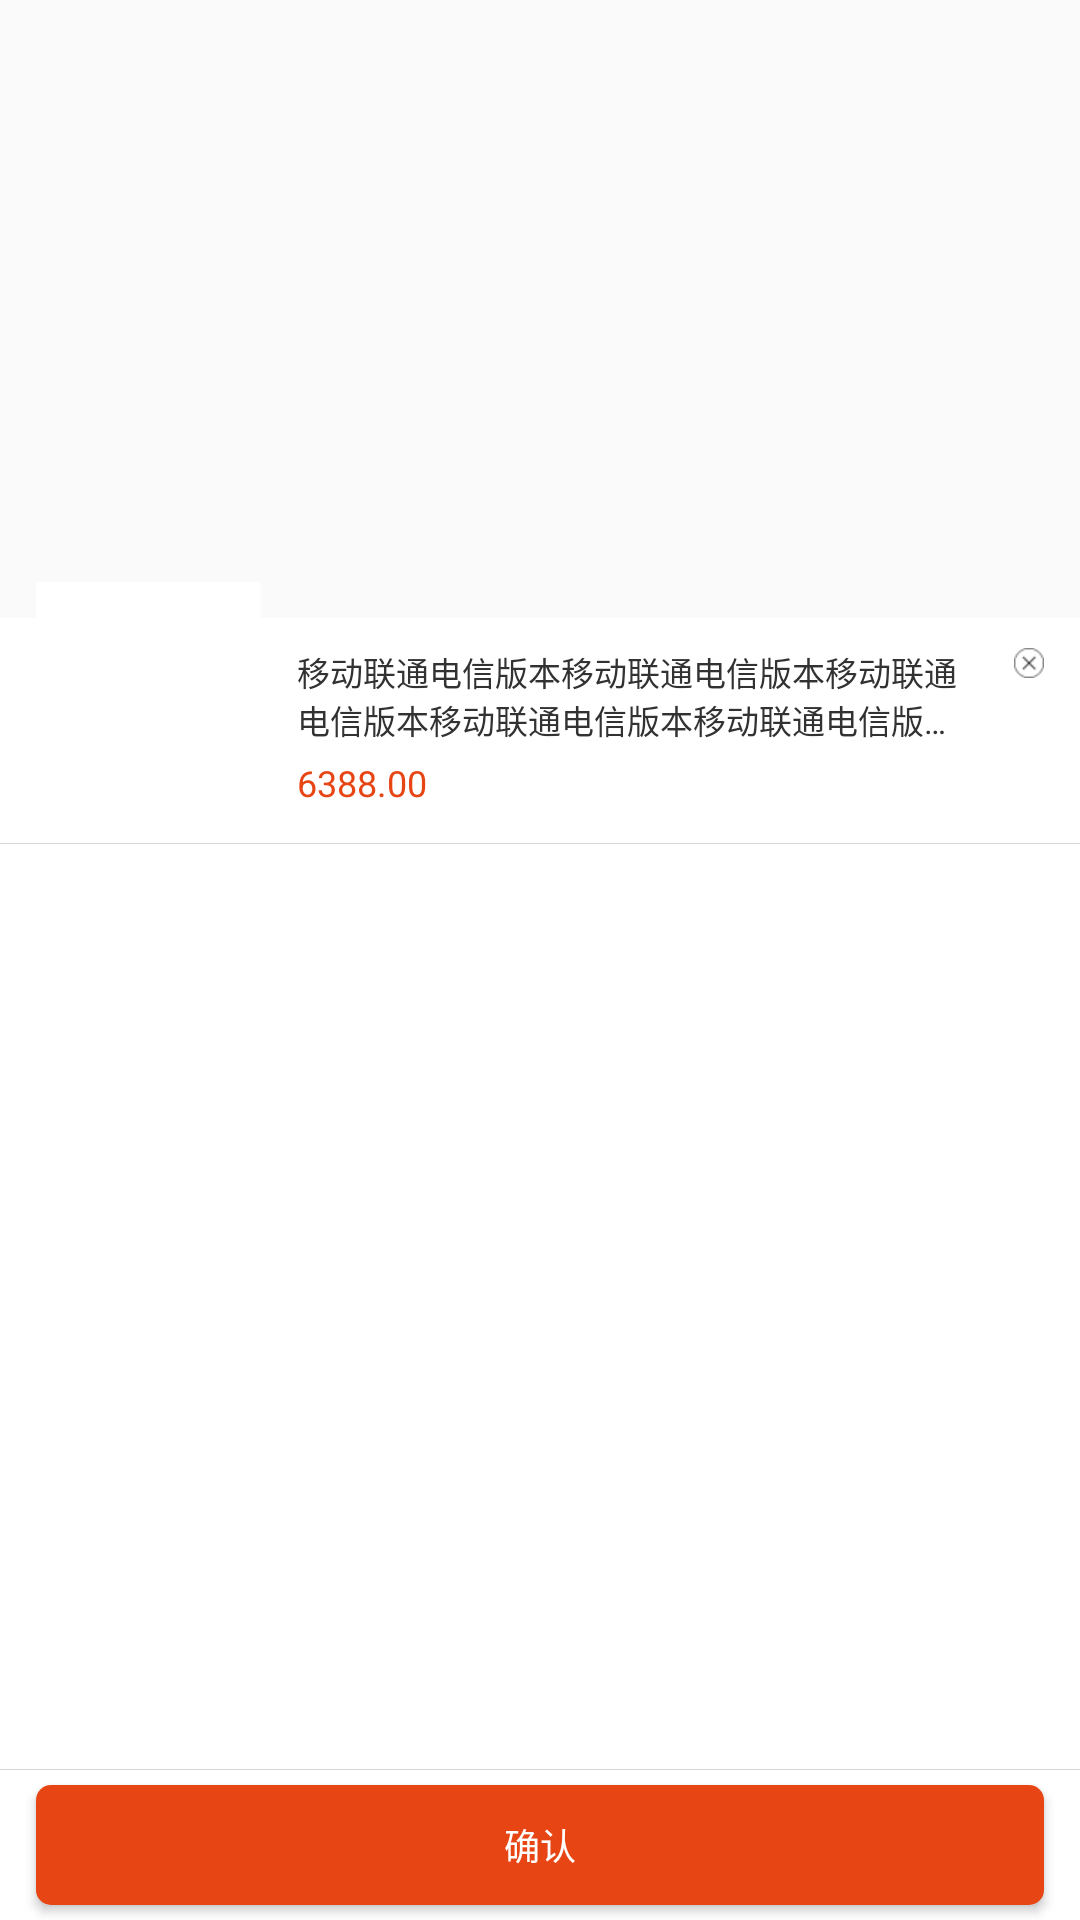

Icons on this 1080w x 1920h Android screen, each with its box as (x1, y1, x2, y2):
clear: (1014, 648, 1044, 678)
